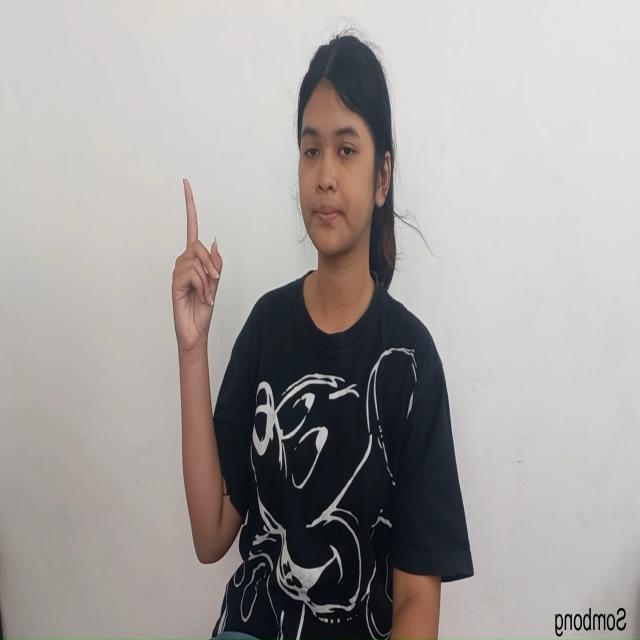Sombong -BISINDO-: (167, 161, 242, 574)
